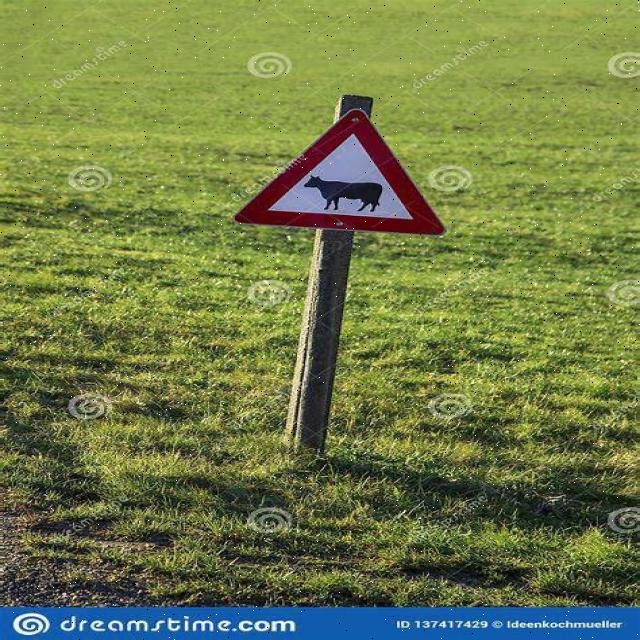cattle: (228, 110, 472, 287)
